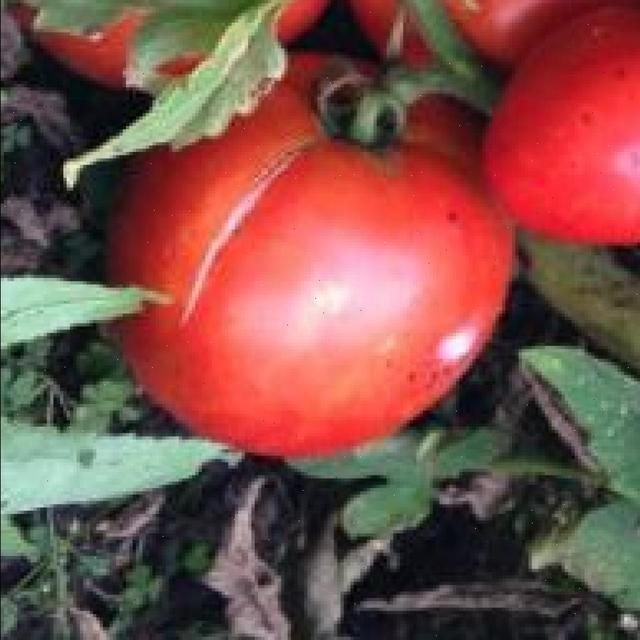Healthy Fruit: (332, 8, 427, 155)
